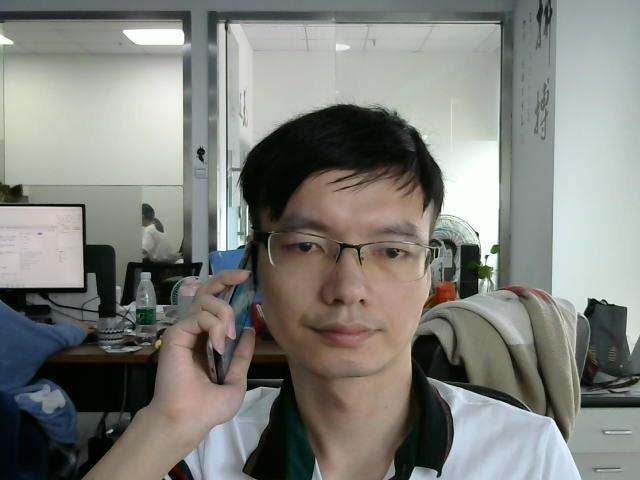hand: (162, 271, 258, 414)
